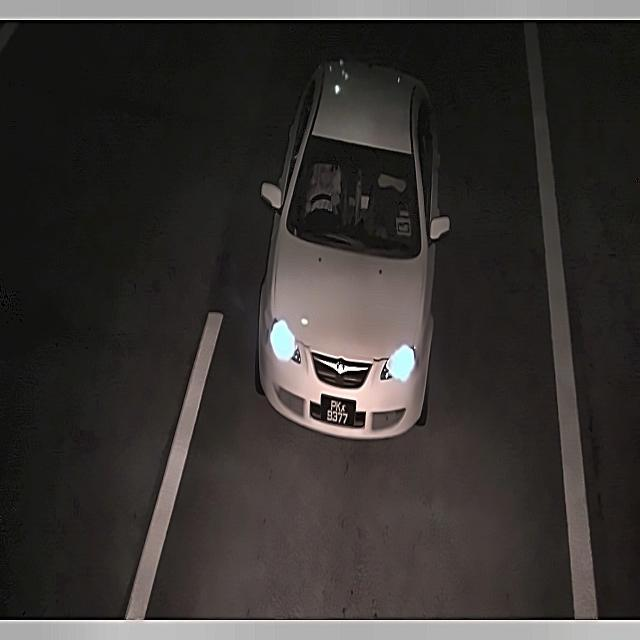car: (314, 387, 362, 435)
